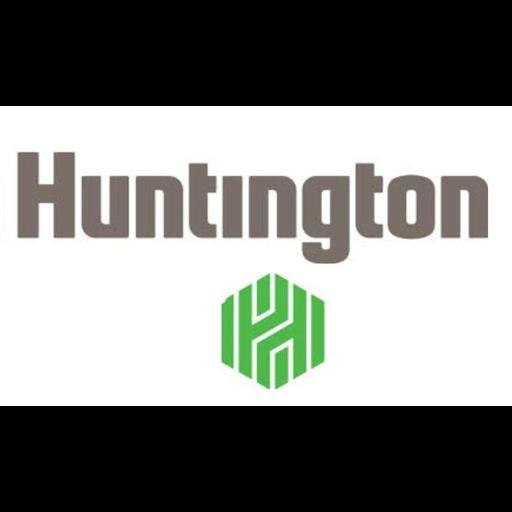Huntington Bank: (0, 106, 512, 406)
